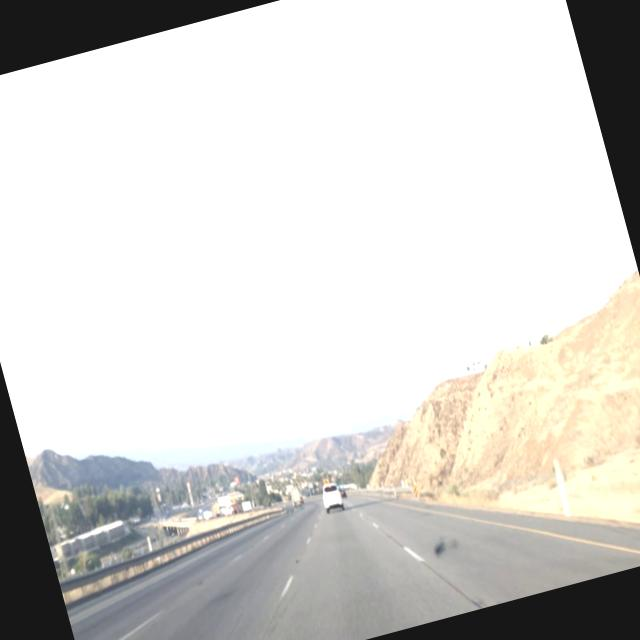Vehicle: (310, 462, 348, 518)
